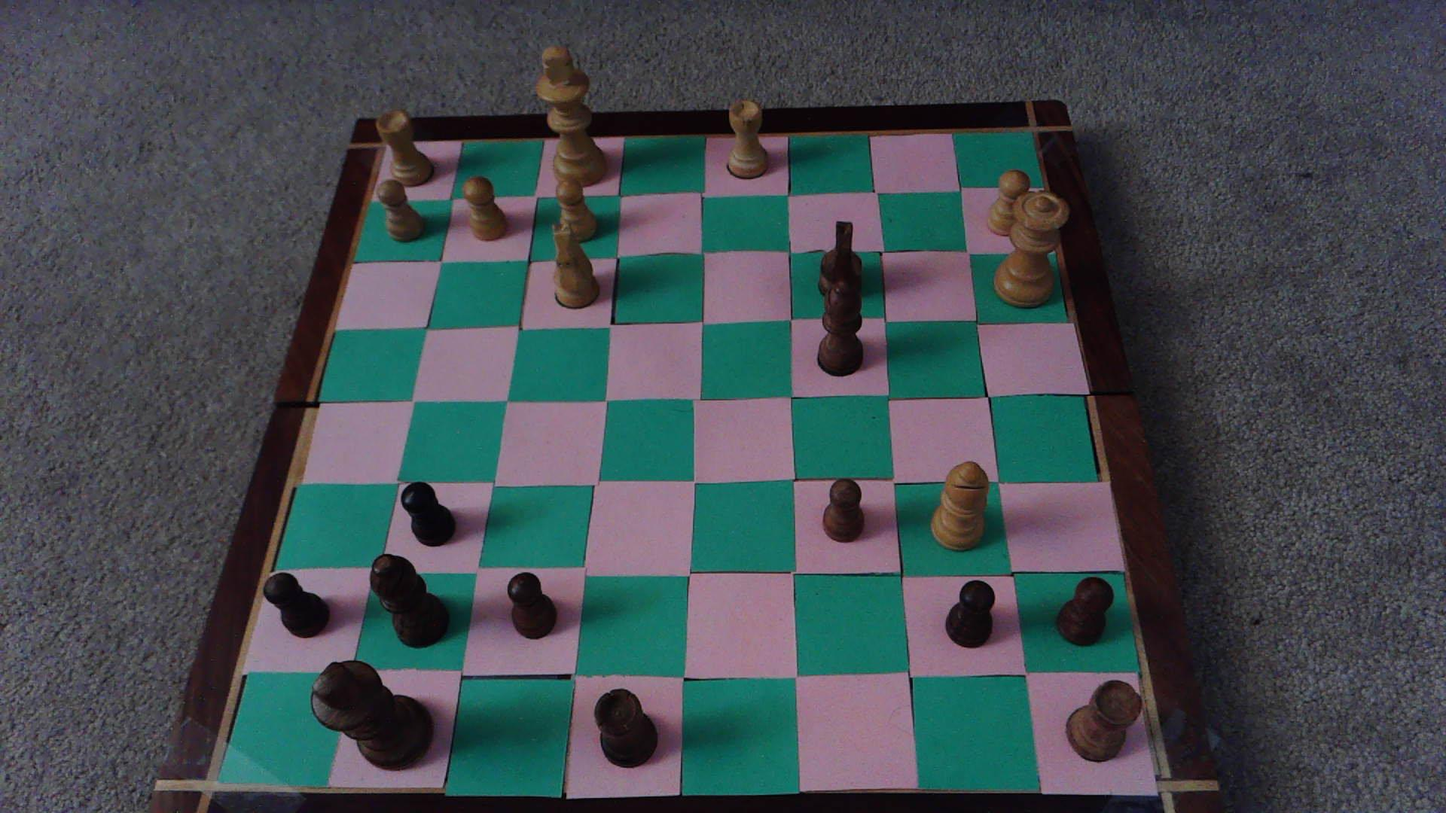dark_piece: (312, 660, 432, 769), (371, 554, 447, 647), (1066, 681, 1142, 761), (594, 689, 657, 767), (817, 272, 862, 375), (264, 574, 329, 637), (1056, 577, 1112, 645), (818, 221, 862, 299), (401, 482, 454, 546), (946, 580, 994, 647), (508, 572, 556, 638), (822, 479, 863, 540)
white_piece: (537, 48, 606, 186), (994, 192, 1068, 307), (931, 461, 989, 550), (551, 224, 599, 310), (376, 110, 431, 184), (728, 101, 769, 179), (376, 180, 424, 243), (462, 177, 507, 241), (988, 170, 1031, 236), (555, 180, 599, 242)
